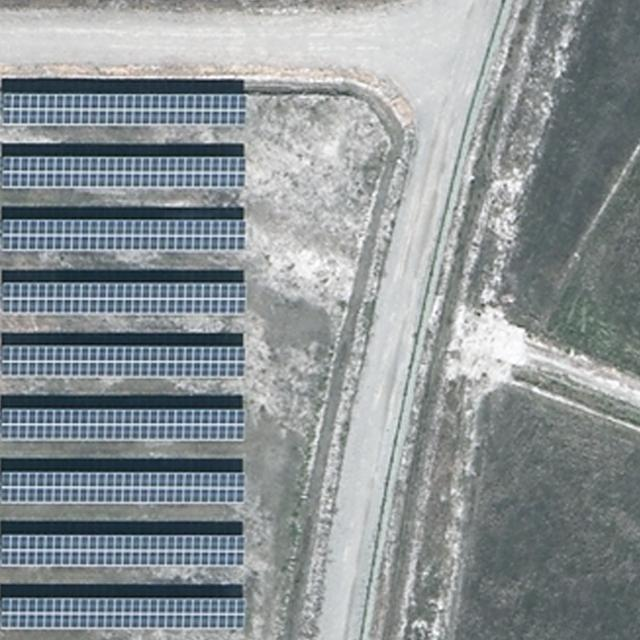panel: (0, 344, 246, 381), (0, 282, 248, 318), (0, 596, 247, 632), (0, 470, 246, 506), (2, 154, 248, 190), (0, 534, 246, 569), (0, 220, 248, 254), (1, 92, 247, 126), (0, 408, 246, 442)
